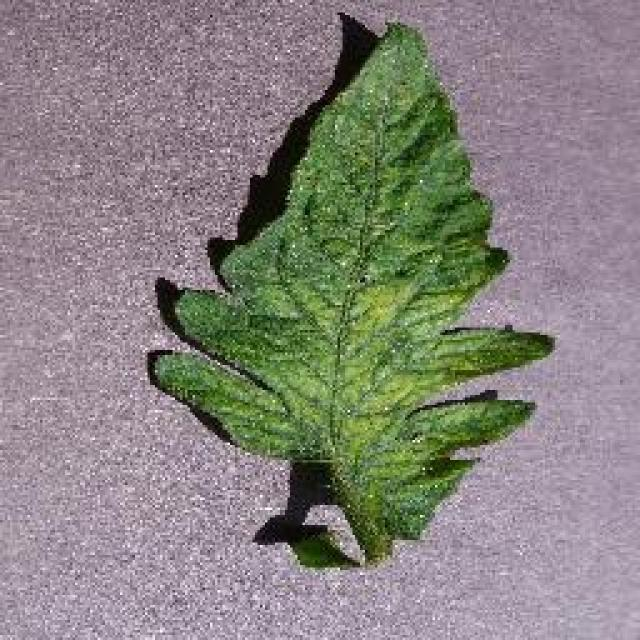Tomato spider mites leaf: (152, 21, 560, 554)
